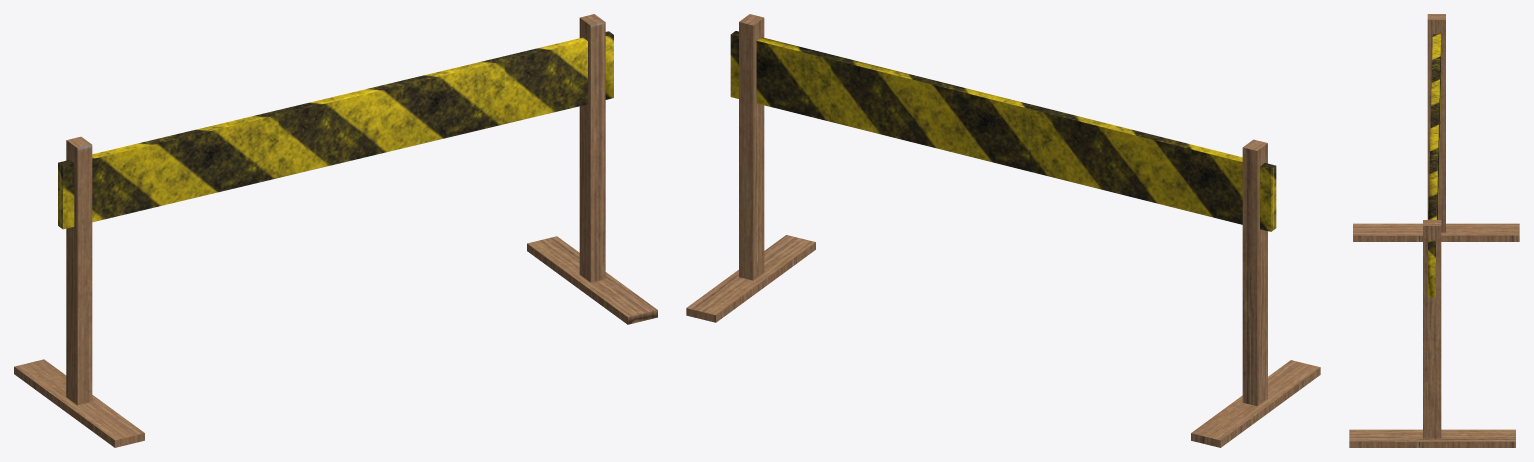
Rendered from roadend.glb.
3 renders of one model, left to right at view 1: azimuth 30°, elevation 25°; view 2: azimuth 150°, elevation 25°; view 3: azimuth 270°, elevation 25°, orthographic. The views are drawn at different scales.
Parts seen in each view (by area): view 1: 3DSMeshMatrix.009; view 2: 3DSMeshMatrix.009; view 3: 3DSMeshMatrix.009.
Part boxes in pixels (x1=…): 3DSMeshMatrix.009: x1=14, y1=14, x2=657, y2=447; 3DSMeshMatrix.009: x1=686, y1=14, x2=1320, y2=447; 3DSMeshMatrix.009: x1=1349, y1=14, x2=1519, y2=447.
Size of the model in its own units: 1.36 by 0.6266 by 0.4415.
1 material, 1 textured.
